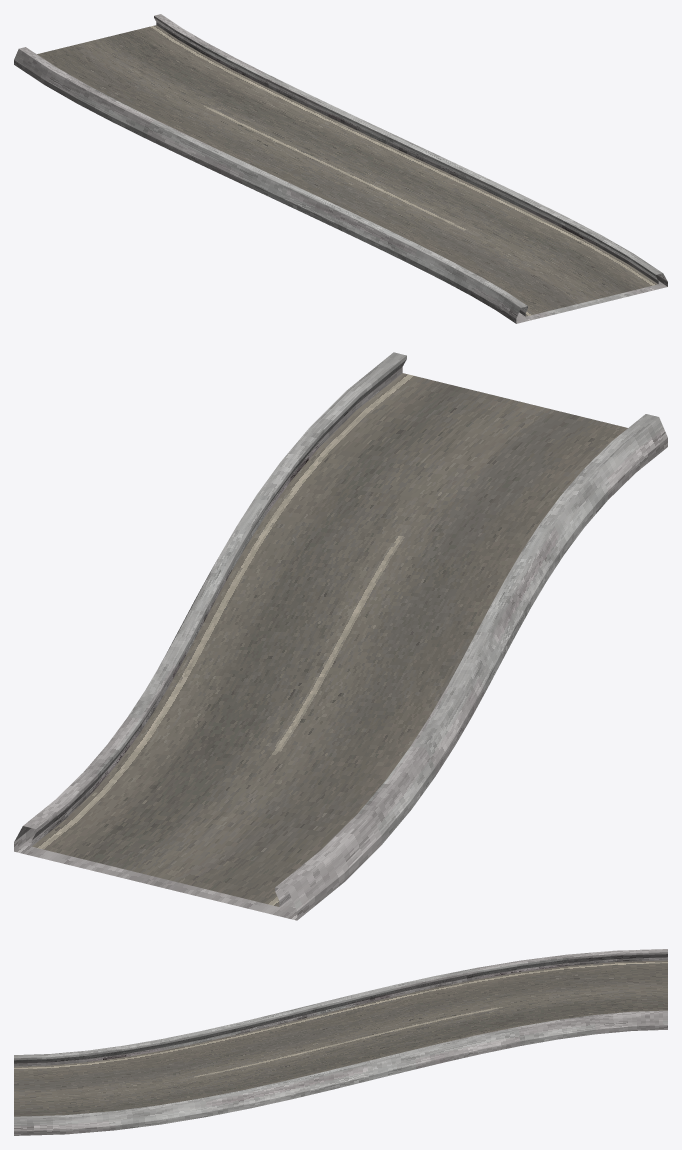
The model's file is road-Chicane-Flat-Flat-Up1-Left1-Size4.glb.
The picture shows the model from 3 angles, top to bottom: view 1: azimuth 30°, elevation 25°; view 2: azimuth 150°, elevation 25°; view 3: azimuth 270°, elevation 25°; orthographic projection. The views are drawn at different scales.
Visible parts, largest first — view 1: road-Chicane-Flat-Flat-Up1-Left1-Size4; view 2: road-Chicane-Flat-Flat-Up1-Left1-Size4; view 3: road-Chicane-Flat-Flat-Up1-Left1-Size4.
Boxes of the visible parts, x1,y1,x2,y2 form: road-Chicane-Flat-Flat-Up1-Left1-Size4: (14,14,667,323); road-Chicane-Flat-Flat-Up1-Left1-Size4: (14,352,667,920); road-Chicane-Flat-Flat-Up1-Left1-Size4: (14,949,667,1135).
Size of the model in its own units: 2 by 0.3438 by 4.
Materials: 2 (2 with a texture image).
